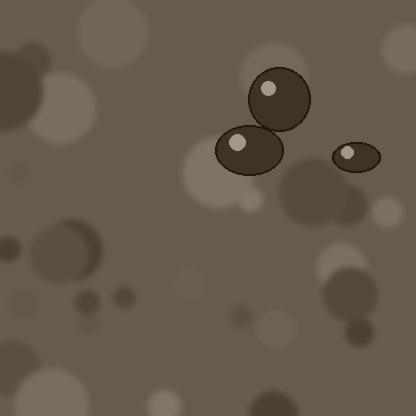gota: (248, 69, 310, 137), (215, 127, 283, 179), (332, 143, 380, 175)
